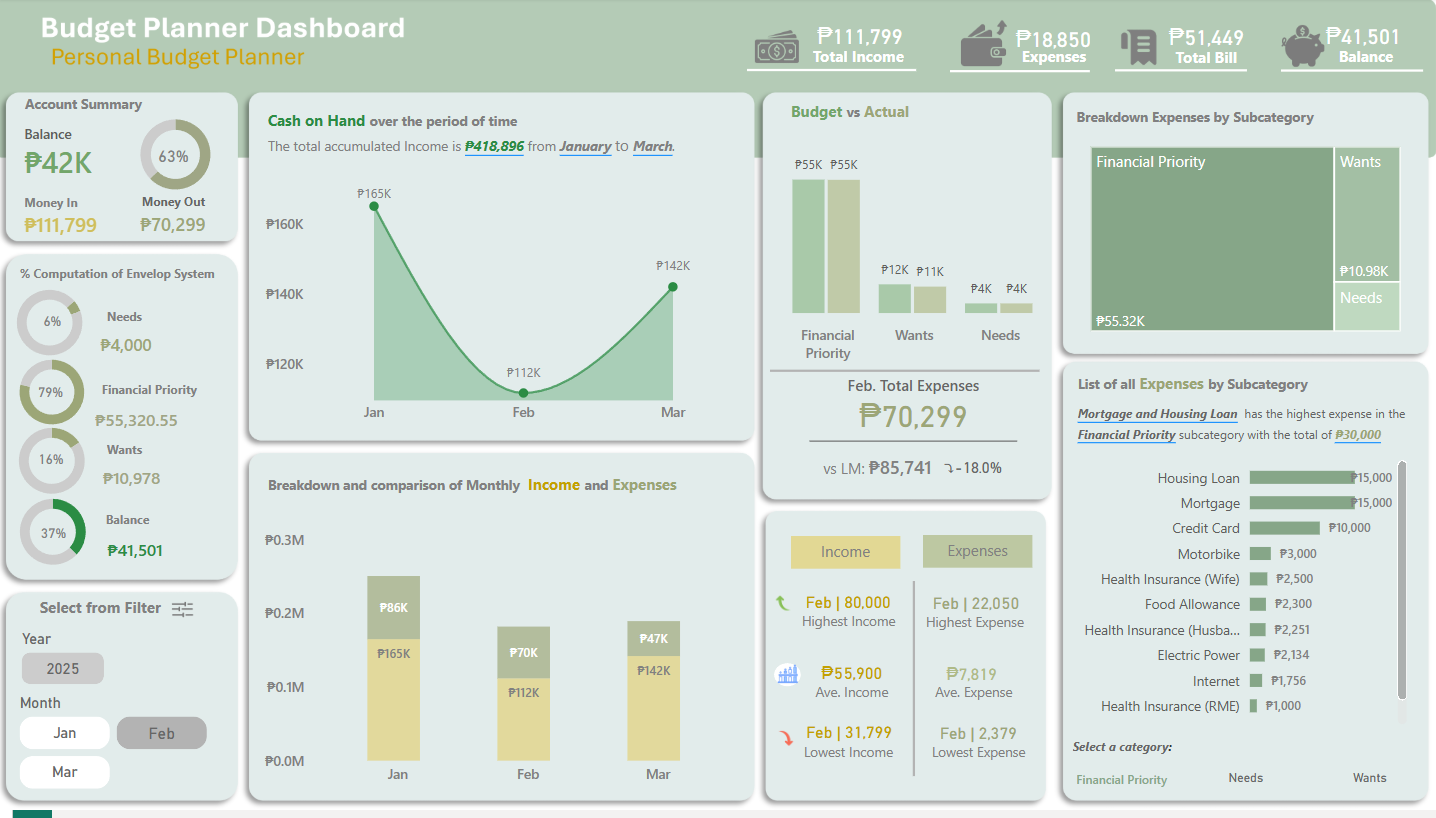

What the dashboard file says about the page in this screenshot:
{"tool":"powerbi","page":{"name":"Page 1","canvas":[1280,720],"ordinal":0},"visuals":[{"type":"card","fields":{"Values":["Measures (2).Balance"]},"box":[1160.8,17.5,105,33.8],"z":0,"group":"g4"},{"type":"card","fields":{"Values":["Measures (2).Total Income"]},"box":[716.7,18.8,102.5,32.5],"z":0,"group":"g3"},{"type":"card","fields":{"Values":["Measures (2).Actual Bill"]},"box":[1022.4,19,105,33.8],"z":0,"group":"g2"},{"type":"card","fields":{"Values":["Measures (2).Actual Expenses"]},"box":[886.9,20,105,33.8],"z":0,"group":"g1"},{"type":"cardVisual","fields":{"Data":["Measures (2).Balance"]},"box":[10.1,94.7,103.8,124],"z":0},{"type":"textbox","box":[891.2,37.9,97.5,35],"z":1000,"group":"g1"},{"type":"textbox","box":[1167,38.1,97.5,33.8],"z":1000,"group":"g4"},{"type":"textbox","box":[721.1,38.2,101.4,35.7],"z":1000,"group":"g3"},{"type":"textbox","box":[1002,39,146,38],"z":1000,"group":"g2"},{"type":"donutChart","fields":{"Y":["Measures (2).% Total Expenses","Measures (2).R %TotalExpenses"]},"box":[113.9,94.7,94.7,87.7],"z":1000},{"type":"shape","box":[1140.8,54.4,126.2,18.8],"z":2000,"group":"g4"},{"type":"shape","box":[847.5,55.4,123.6,18.2],"z":2000,"group":"g1"},{"type":"shape","box":[667.5,55.8,150,16],"z":2000,"group":"g3"},{"type":"shape","box":[994,58,117,13],"z":2000,"group":"g2"},{"type":"card","fields":{"Values":["Measures (2).% Total Expenses"]},"box":[136.7,119.2,45,45.8],"z":2000},{"type":"card","fields":{"Values":["Measures (2).Total Expenses"]},"box":[111.9,186.5,93.7,32.3],"z":3000},{"type":"textbox","box":[126.2,166.2,82.4,32.4],"z":4000},{"type":"donutChart","fields":{"Y":["Measures (2).% Total Needs","Measures (2).R %TotalNeeds"]},"box":[8.1,242.9,82.6,89.7],"z":5000},{"type":"donutChart","fields":{"Y":["Measures (2).% Financial Priority","Measures (2).R %TotalFP"]},"box":[8.1,308.4,86.7,81.6],"z":6000},{"type":"card","fields":{"Values":["Measures (2).% Total Needs"]},"box":[33.3,268.1,36.3,40.3],"z":7000},{"type":"card","fields":{"Values":["Measures (2).% Financial Priority"]},"box":[32.3,330.6,36.3,41.3],"z":8000},{"type":"donutChart","fields":{"Y":["Measures (2).% Total Wants","Measures (2).R %TotalWants"]},"box":[8,368.9,86.9,83.3],"z":9000},{"type":"donutChart","fields":{"Y":["Measures (2).% Total Balance","Measures (2).R %Balance"]},"box":[10.6,430,83.3,86.9],"z":10000},{"type":"card","fields":{"Values":["Measures (2).% Total Balance"]},"box":[31.9,461.1,41.7,31],"z":11000},{"type":"card","fields":{"Values":["Measures (2).% Total Wants"]},"box":[32.3,392.1,37.3,38.3],"z":12000},{"type":"textbox","box":[95,268,53,31],"z":13000},{"type":"textbox","box":[90.7,332.6,104.8,32.3],"z":14000},{"type":"textbox","box":[95,386,54,31],"z":15000},{"type":"textbox","box":[94,447.8,62.1,28.4],"z":16000},{"type":"card","fields":{"Values":["Measures (2).Total Needs"]},"box":[70.2,295.7,93.9,27],"z":17000},{"type":"card","fields":{"Values":["Measures (2).Total Financial Priority"]},"box":[79.6,359.8,92.7,33.3],"z":18000},{"type":"card","fields":{"Values":["Measures (2).Total Wants"]},"box":[75.6,411.2,92.7,33.3],"z":19000},{"type":"card","fields":{"Values":["Measures (2).Balance"]},"box":[77.6,476.7,93.7,28.2],"z":20000},{"type":"textbox","box":[21.8,80,137.3,32.7],"z":21000},{"type":"textbox","box":[18.1,229.8,196.5,45.4],"z":22000},{"type":"columnChart","fields":{"Category":["Calendar.Month Short"],"Y":["Measures (2).Total Income","Measures (2).Total Expenses"]},"box":[235.3,466.5,432.4,240],"z":23000},{"type":"advancedSlicerVisual","fields":{"Values":["Calendar.Year"]},"box":[19.1,560.4,163.3,53.4],"z":24000},{"type":"advancedSlicerVisual","title":"Month ","fields":{"Values":["Calendar.Month Short"]},"box":[18.1,616.8,177.4,89.7],"z":25000},{"type":"textbox","box":[237.5,417.5,402.5,48.8],"z":26000},{"type":"lineChart","fields":{"Category":["Calendar.Month Short"],"Y":["Measures (2).Total Income"]},"box":[234.8,155.2,425.3,230.8],"z":27000},{"type":"textbox","box":[237.9,94.7,327.6,48.4],"z":28000},{"type":"clusteredColumnChart","fields":{"Category":["Dataset.Subcategory"],"Y":["Measures (2).Total Budget Expenses","Measures (2).Total Expenses"]},"box":[662.2,126,297.3,204.6],"z":29000},{"type":"textbox","box":[694.4,86.7,238.9,53.4],"z":30000},{"type":"cardVisual","fields":{"Data":["Measures (2).Total Expenses"]},"box":[718,325,194,107],"z":31000},{"type":"shape","box":[688.4,324.5,238.9,12.1],"z":32000},{"type":"card","fields":{"Values":["Measures (2).MoM Change Total Expenses"]},"box":[831.8,401.8,70.9,31.8],"z":33000},{"type":"barChart","fields":{"Category":["Dataset.Description"],"Y":["Measures (2).SelectedMonth"]},"box":[948.4,397.1,309.4,252],"z":34000},{"type":"advancedSlicerVisual","fields":{"Values":["Dataset.Subcategory"]},"box":[940,666.7,340,45.6],"z":35000},{"type":"textbox","box":[951.8,649.1,141.8,35.5],"z":36000},{"type":"textbox","box":[955.6,327.8,320,48.9],"z":37000},{"type":"textbox","box":[956,354,306,74],"z":38000},{"type":"textbox","box":[35.5,526.7,137.4,33.7],"z":39000},{"type":"group","id":"g1","title":"Group 1","box":[847.5,20,144.4,53.6],"z":40000},{"type":"group","id":"g2","title":"Group 1","box":[994,19,154,58],"z":41000},{"type":"group","id":"g3","title":"Group 1","box":[667.5,18.8,155,55],"z":42000},{"type":"group","id":"g4","title":"Group 1","box":[1140.8,17.5,126.2,55.6],"z":43000},{"type":"image","box":[667.8,18.9,53.3,48.9],"z":44000},{"type":"image","box":[993.3,17.8,44.4,52.2],"z":45000},{"type":"image","box":[1134,17,53,51],"z":46000},{"type":"image","box":[145.5,526.4,43.6,30.9],"z":47000},{"type":"textbox","box":[706.7,476.7,96.7,29.2],"z":48000},{"type":"textbox","box":[824,476,97,29],"z":49000},{"type":"card","fields":{"Values":["Measures (2).Caption Highest Income"]},"box":[701.7,515,113.3,43.3],"z":50000},{"type":"card","fields":{"Values":["Measures (2).Caption Highest Expenses"]},"box":[816,520,110,36.7],"z":51000},{"type":"textbox","box":[710.8,538.3,103.3,30.8],"z":52000},{"type":"textbox","box":[821.2,538.8,110,32.5],"z":53000},{"type":"card","fields":{"Values":["Measures (2).Caption Lowest Income"]},"box":[705.8,634.2,105,36.7],"z":54000},{"type":"card","fields":{"Values":["Measures (2).Caption Lowest Expenses"]},"box":[817.3,632.7,110.7,40],"z":55000},{"type":"textbox","box":[712.5,654.2,103.3,31.7],"z":56000},{"type":"textbox","box":[826.7,654,103.3,30.7],"z":57000},{"type":"card","fields":{"Values":["Measures (2).Average Income"]},"box":[683.3,579.2,154.2,42.5],"z":58000},{"type":"textbox","box":[709.2,600.8,102.5,31.7],"z":59000},{"type":"textbox","box":[817.8,601.1,102.2,31.1],"z":60000},{"type":"card","fields":{"Values":["Measures (2).Average Expense"]},"box":[807.3,584.7,120,32.7],"z":61000},{"type":"shape","box":[808.3,516.7,14.2,172.5],"z":62000},{"type":"treemap","fields":{"Values":["Measures (2).Total Needs","Measures (2).Total Financial Priority","Measures (2).Total Wants"]},"box":[967.3,126.4,284.5,173.6],"z":63000},{"type":"textbox","box":[951.8,90.9,328.2,49.1],"z":64000},{"type":"image","box":[688,524,23,24],"z":65000},{"type":"image","box":[691,643,23,26],"z":66000},{"type":"group","id":"g5","title":"Group 2","box":[690,585.6,27.8,26.7],"z":67000},{"type":"textbox","box":[237.9,116.9,402.1,38.3],"z":68000},{"type":"shape","box":[691.9,590.2,23.8,20.8],"z":68000,"group":"g5"},{"type":"image","box":[850.6,11.1,54.4,57.4],"z":69000},{"type":"image","box":[690,585.6,27.7,27.7],"z":69000,"group":"g5"}]}

Visuals, with their boxes in screenshot pixels (x1, y1, x2, y2), scaled from the page's 1280x720 canvas onto the 1436x818 screenshot:
card - Measures (2).Balance: (1302, 20, 1420, 58)
card - Measures (2).Total Income: (804, 21, 919, 58)
card - Measures (2).Actual Bill: (1147, 22, 1265, 60)
card - Measures (2).Actual Expenses: (995, 23, 1113, 61)
cardVisual - Measures (2).Balance: (11, 108, 128, 248)
textbox: (1000, 43, 1109, 83)
textbox: (1309, 43, 1419, 82)
textbox: (809, 43, 923, 84)
textbox: (1124, 44, 1288, 87)
donutChart - Measures (2).% Total Expenses x Measures (2).R %TotalExpenses: (128, 108, 234, 207)
shape: (1280, 62, 1421, 83)
shape: (951, 63, 1089, 84)
shape: (749, 63, 917, 82)
shape: (1115, 66, 1246, 81)
card - Measures (2).% Total Expenses: (153, 135, 204, 187)
card - Measures (2).Total Expenses: (126, 212, 231, 249)
textbox: (142, 189, 234, 226)
donutChart - Measures (2).% Total Needs x Measures (2).R %TotalNeeds: (9, 276, 102, 378)
donutChart - Measures (2).% Financial Priority x Measures (2).R %TotalFP: (9, 350, 106, 443)
card - Measures (2).% Total Needs: (37, 305, 78, 350)
card - Measures (2).% Financial Priority: (36, 376, 77, 423)
donutChart - Measures (2).% Total Wants x Measures (2).R %TotalWants: (9, 419, 106, 514)
donutChart - Measures (2).% Total Balance x Measures (2).R %Balance: (12, 489, 105, 587)
card - Measures (2).% Total Balance: (36, 524, 83, 559)
card - Measures (2).% Total Wants: (36, 445, 78, 489)
textbox: (107, 304, 166, 340)
textbox: (102, 378, 219, 415)
textbox: (107, 439, 167, 474)
textbox: (105, 509, 175, 541)
card - Measures (2).Total Needs: (79, 336, 184, 367)
card - Measures (2).Total Financial Priority: (89, 409, 193, 447)
card - Measures (2).Total Wants: (85, 467, 189, 505)
card - Measures (2).Balance: (87, 542, 192, 574)
textbox: (24, 91, 178, 128)
textbox: (20, 261, 241, 313)
columnChart - Calendar.Month Short x Measures (2).Total Income: (264, 530, 749, 803)
advancedSlicerVisual - Calendar.Year: (21, 637, 205, 697)
"Month " advancedSlicerVisual: (20, 701, 219, 803)
textbox: (266, 474, 718, 530)
lineChart - Calendar.Month Short x Measures (2).Total Income: (263, 176, 741, 439)
textbox: (267, 108, 634, 163)
clusteredColumnChart - Dataset.Subcategory x Measures (2).Total Budget Expenses: (743, 143, 1076, 376)
textbox: (779, 99, 1047, 159)
cardVisual - Measures (2).Total Expenses: (806, 369, 1023, 491)
shape: (772, 369, 1040, 382)
card - Measures (2).MoM Change Total Expenses: (933, 456, 1013, 493)
barChart - Dataset.Description x Measures (2).SelectedMonth: (1064, 451, 1411, 737)
advancedSlicerVisual - Dataset.Subcategory: (1055, 757, 1435, 809)
textbox: (1068, 737, 1227, 778)
textbox: (1072, 372, 1431, 428)
textbox: (1073, 402, 1416, 486)
textbox: (40, 598, 194, 637)
"Group 1" group: (951, 23, 1113, 84)
"Group 1" group: (1115, 22, 1288, 87)
"Group 1" group: (749, 21, 923, 84)
"Group 1" group: (1280, 20, 1421, 83)
image: (749, 21, 809, 77)
image: (1114, 20, 1164, 80)
image: (1272, 19, 1332, 77)
image: (163, 598, 212, 633)
textbox: (793, 542, 901, 575)
textbox: (924, 541, 1033, 574)
card - Measures (2).Caption Highest Income: (787, 585, 914, 634)
card - Measures (2).Caption Highest Expenses: (915, 591, 1039, 632)
textbox: (797, 612, 913, 647)
textbox: (921, 612, 1045, 649)
card - Measures (2).Caption Lowest Income: (792, 721, 910, 762)
card - Measures (2).Caption Lowest Expenses: (917, 719, 1041, 764)
textbox: (799, 743, 915, 779)
textbox: (927, 743, 1043, 778)
card - Measures (2).Average Income: (767, 658, 940, 706)
textbox: (796, 683, 911, 719)
textbox: (917, 683, 1032, 718)
card - Measures (2).Average Expense: (906, 664, 1040, 701)
shape: (907, 587, 923, 783)
treemap - Measures (2).Total Needs x Measures (2).Total Financial Priority: (1085, 144, 1404, 341)
textbox: (1068, 103, 1435, 159)
image: (772, 595, 798, 623)
image: (775, 731, 801, 760)
"Group 2" group: (774, 665, 805, 696)
textbox: (267, 133, 718, 176)
shape: (776, 671, 803, 694)
image: (954, 13, 1015, 78)
image: (774, 665, 805, 697)
